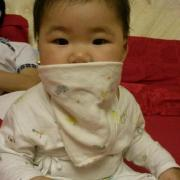WRONG: (39, 22, 122, 105)
